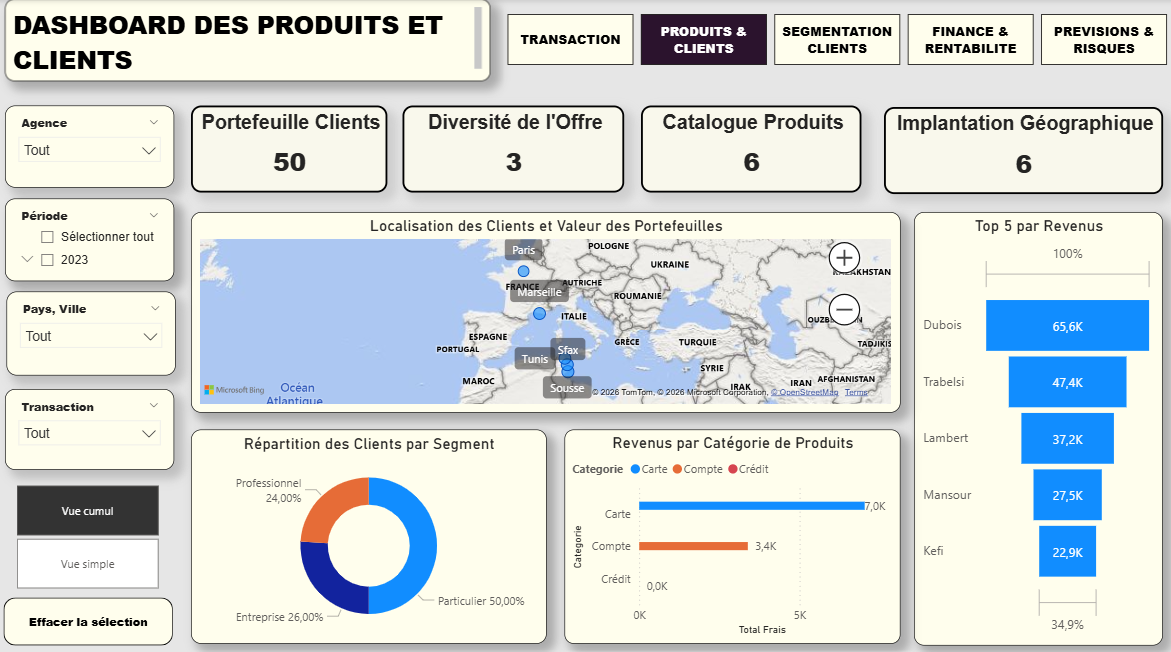

The page's visual inventory and layout, read from the dashboard file:
{"tool":"powerbi","page":{"name":"PRODUITS & CLIENTS  ","canvas":[1280,720],"ordinal":1},"visuals":[{"type":"textbox","box":[12.9,0,524.3,88.6],"z":0},{"type":"card","title":"Portefeuille Clients","fields":{"Values":["DIM_CLIENT.Nb Clients"]},"box":[213.7,115,212.1,93.9],"z":1000},{"type":"funnel","title":"Top 5 par Revenus","fields":{"Category":["DIM_CLIENT.Nom_Client"],"Y":["KPI.Revenus Totaux"]},"box":[994.2,229.9,268.8,468],"z":2000},{"type":"map","title":"Localisation des Clients et Valeur des Portefeuilles","fields":{"Category":["DIM_AGENCE.Ville"],"Size":["FACT_TRANSACTIONS.Revenus Totaux"]},"box":[213.7,229.9,765.9,217],"z":3000},{"type":"clusteredBarChart","title":"Revenus par Catégorie de Produits","fields":{"Category":["DIM_PRODUIT.Categorie"],"Series":["DIM_PRODUIT.Categorie"],"Y":["DIM_PRODUIT.Total Frais"]},"box":[616.9,464.7,362.7,231.5],"z":4000},{"type":"card","title":"Catalogue Produits","fields":{"Values":["DIM_PRODUIT.Nombre de Produits"]},"box":[699.5,115,238,93.9],"z":5000},{"type":"card","title":"Diversité de l''Offre","fields":{"Values":["DIM_PRODUIT.Nombre de Catégories"]},"box":[442,115,239.6,93.9],"z":6000},{"type":"card","title":"Implantation Géographique","fields":{"Values":["DIM_CLIENT.Nb Villes"]},"box":[961.8,116.6,301.2,93.9],"z":7000},{"type":"donutChart","title":"Répartition des Clients par Segment","fields":{"Category":["DIM_CLIENT.Segment_Client"],"Y":["DIM_CLIENT.Nb Clients"]},"box":[213.7,464.7,383.8,231.5],"z":8000},{"type":"slicer","title":"NOM AGENCE","fields":{"Values":["DIM_AGENCE.Nom_Agence"]},"box":[12.9,114.3,182.9,88.6],"z":9000},{"type":"slicer","fields":{"Values":["DIM_DATE.Annee","DIM_DATE.Trimestre","DIM_DATE.Nom_Mois","DIM_DATE.Jour_Numero"]},"box":[13,215.4,183,89.1],"z":10000},{"type":"slicer","title":"NOM AGENCE","fields":{"Values":["DIM_AGENCE.Pays","DIM_AGENCE.Ville"]},"box":[14.6,315.7,183,90.7],"z":11000},{"type":"slicer","title":"NOM AGENCE","fields":{"Values":["DIM_TYPE_TRANSACTION.Type_Transaction"]},"box":[13,421,183,87.4],"z":12000},{"type":"pageNavigator","box":[555.7,15.7,712.9,55.7],"z":13000},{"type":"actionButton","box":[11.3,646.1,183,51.8],"z":14000},{"type":"slicer","fields":{"Values":["KPI Switch.Type Calcul"]},"box":[0,518.2,202.4,124.7],"z":15000}]}

Visuals, with their boxes in screenshot pixels (x1, y1, x2, y2), scaled from the page's 1280x720 canvas onto the 1171x652 screenshot:
textbox: 12,0,491,80
"Portefeuille Clients" card: 196,104,390,189
"Top 5 par Revenus" funnel: 910,208,1155,632
"Localisation des Clients et Valeur des Portefeuilles" map: 196,208,896,405
"Revenus par Catégorie de Produits" clusteredBarChart: 564,421,896,630
"Catalogue Produits" card: 640,104,858,189
"Diversité de l''Offre" card: 404,104,624,189
"Implantation Géographique" card: 880,106,1155,191
"Répartition des Clients par Segment" donutChart: 196,421,547,630
"NOM AGENCE" slicer: 12,104,179,184
slicer - DIM_DATE.Annee x DIM_DATE.Trimestre: 12,195,179,276
"NOM AGENCE" slicer: 13,286,181,368
"NOM AGENCE" slicer: 12,381,179,460
pageNavigator: 508,14,1161,65
actionButton: 10,585,178,632
slicer - KPI Switch.Type Calcul: 0,469,185,582
